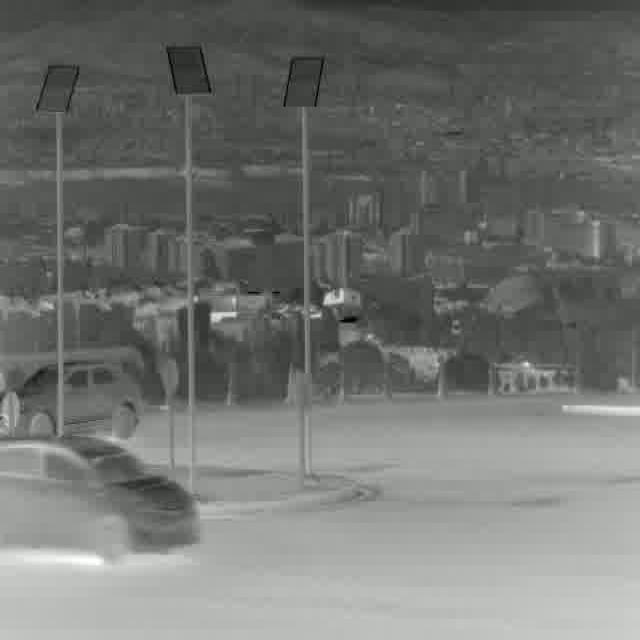Car: (0, 437, 198, 567), (0, 360, 143, 437)
